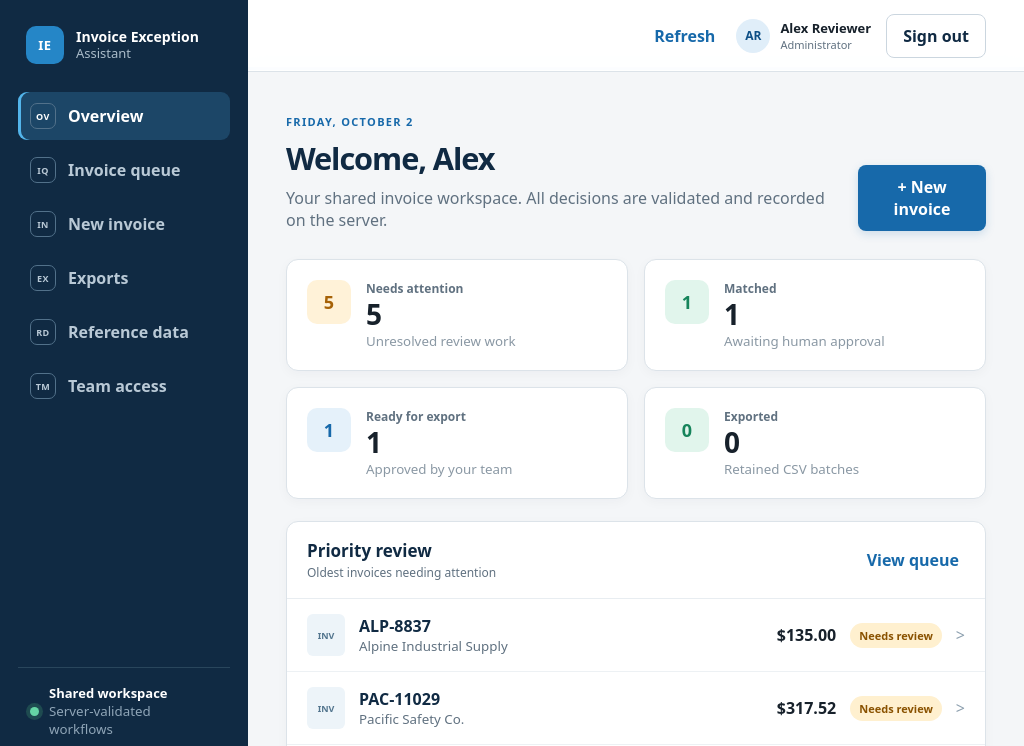
Scenario: authenticated application state › clears confidential views when a request indicates an expired session
The width and height of the screenshot is (1024, 746).
Check: the heading "Welcome, Alex" is shown, box [286,137,494,179]
Click the button "Refresh". click: (685, 36)
box: [648,18,721,52]
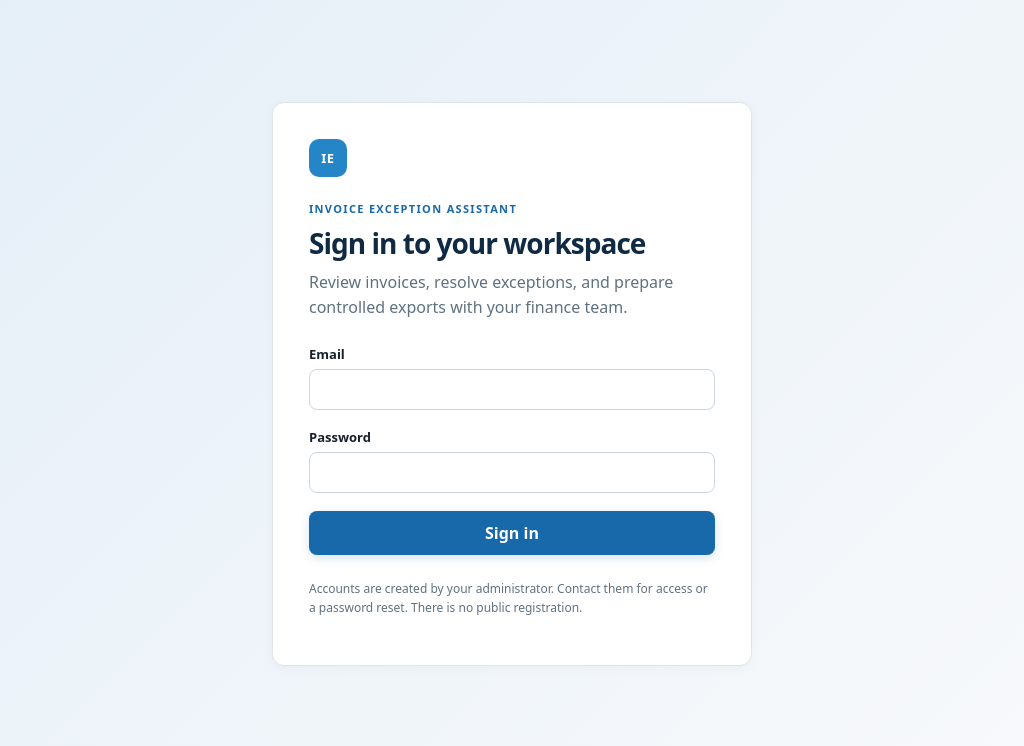
Check: the heading "Sign in to your workspace" is shown, box [309,224,645,262]
Check: the heading "Priority review" is gone
